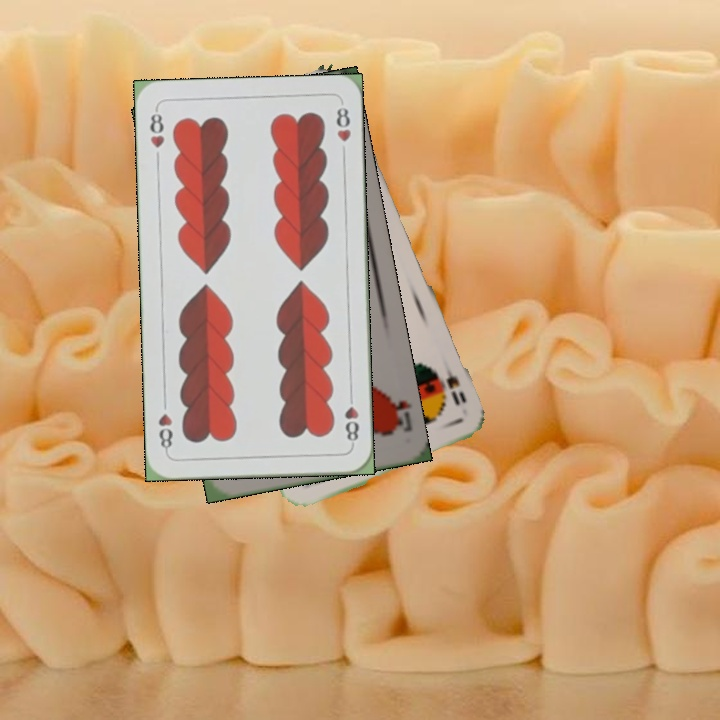H8: (341, 389, 361, 448), (146, 105, 167, 150)
HO: (383, 391, 414, 438)
SO: (437, 355, 469, 409)
